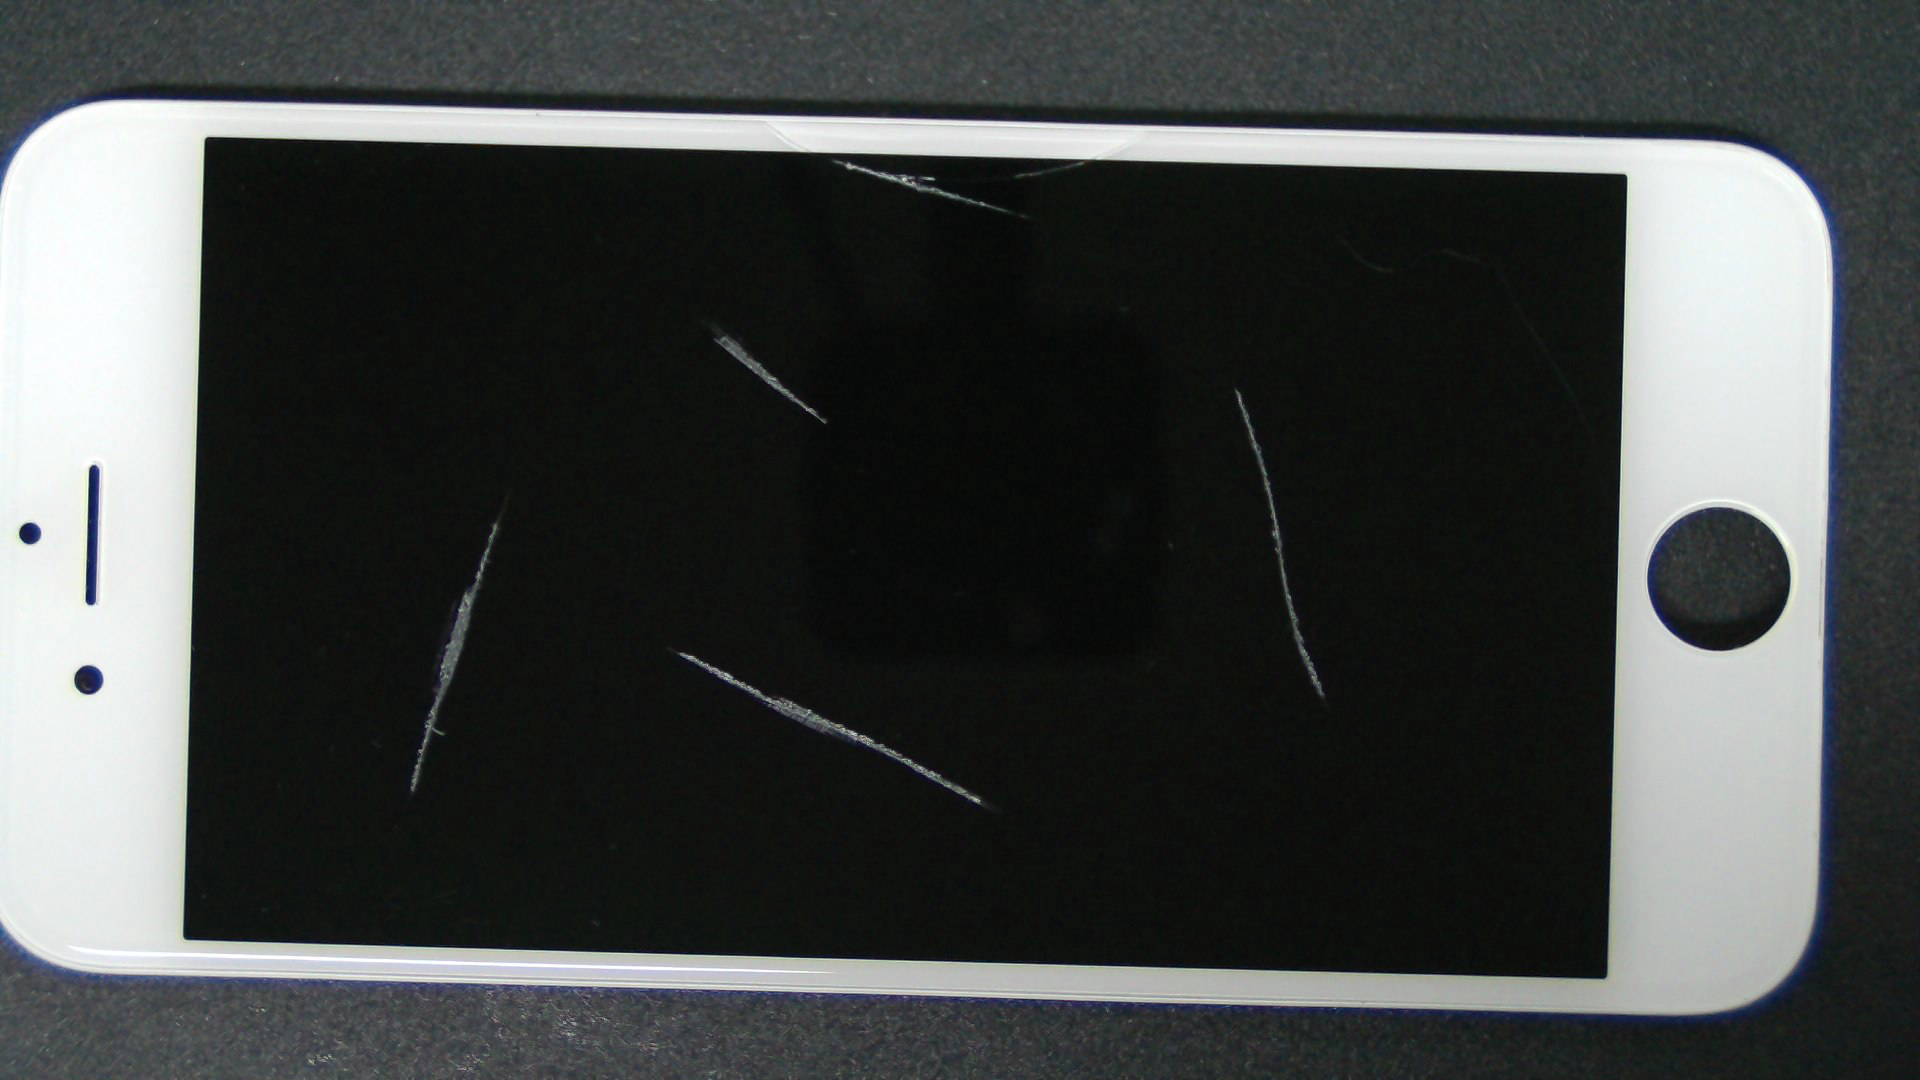defect: (674, 650, 985, 807), (1234, 388, 1325, 698), (407, 522, 497, 793), (831, 158, 1025, 218), (712, 334, 827, 425), (1014, 161, 1085, 178)
